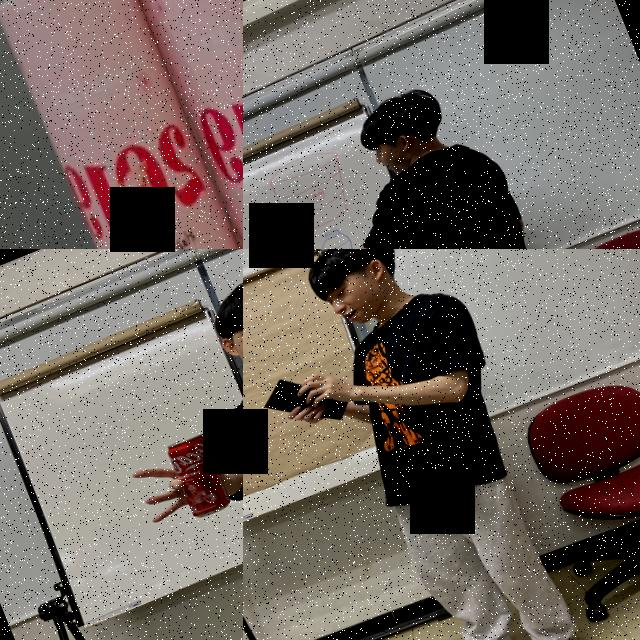can: (0, 0, 243, 249), (94, 0, 243, 249), (162, 430, 235, 523)
